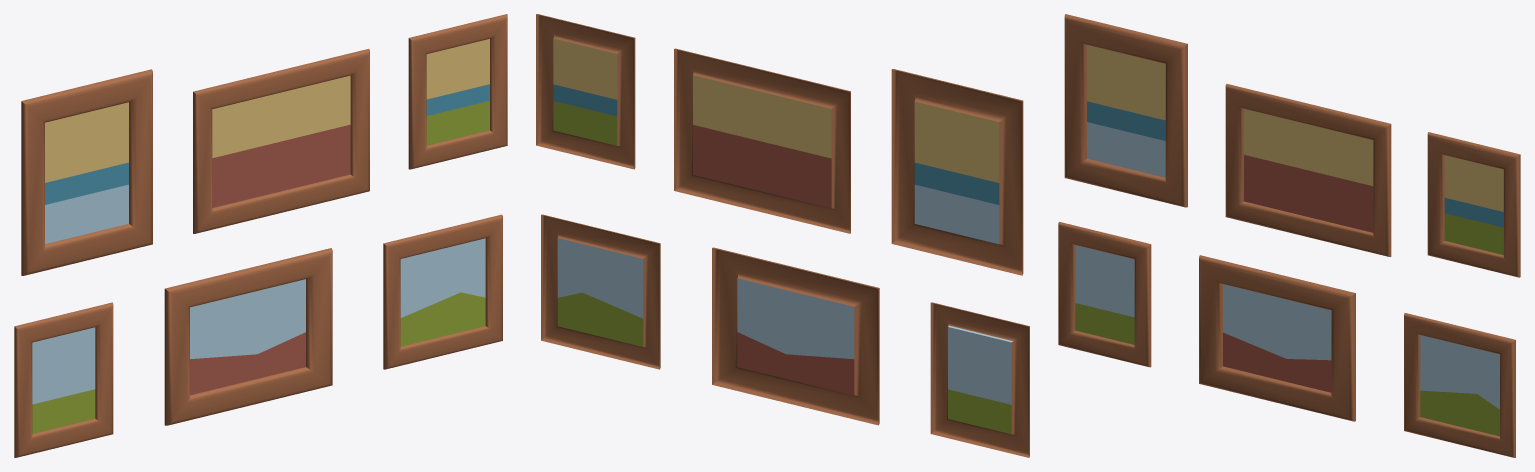
File: 03_Draw 2.fbx
The picture shows the model from 3 angles, left to right: view 1: azimuth 30°, elevation 25°; view 2: azimuth 150°, elevation 25°; view 3: azimuth 330°, elevation 25°; orthographic projection. The views are drawn at different scales.
Parts seen in each view (by area): view 1: 03_Draw 02.1, 03_Draw 02.4, 03_Draw 02, 03_Draw 02.5, 03_Draw 02.2, 03_Draw 02.3; view 2: 03_Draw 02.1, 03_Draw 02, 03_Draw 02.4, 03_Draw 02.5, 03_Draw 02.3, 03_Draw 02.2; view 3: 03_Draw 02.1, 03_Draw 02, 03_Draw 02.4, 03_Draw 02.5, 03_Draw 02.2, 03_Draw 02.3.
Boxes of the visible parts, x1=… form: 03_Draw 02.1: x1=193, y1=49, x2=369, y2=233; 03_Draw 02.4: x1=164, y1=248, x2=332, y2=425; 03_Draw 02: x1=21, y1=69, x2=152, y2=275; 03_Draw 02.5: x1=383, y1=214, x2=502, y2=369; 03_Draw 02.2: x1=408, y1=14, x2=507, y2=169; 03_Draw 02.3: x1=14, y1=302, x2=113, y2=457; 03_Draw 02.1: x1=674, y1=48, x2=850, y2=233; 03_Draw 02: x1=891, y1=69, x2=1023, y2=275; 03_Draw 02.4: x1=712, y1=247, x2=879, y2=425; 03_Draw 02.5: x1=541, y1=214, x2=660, y2=369; 03_Draw 02.3: x1=930, y1=302, x2=1029, y2=457; 03_Draw 02.2: x1=536, y1=14, x2=635, y2=169; 03_Draw 02.1: x1=1225, y1=83, x2=1391, y2=256; 03_Draw 02: x1=1064, y1=14, x2=1187, y2=207; 03_Draw 02.4: x1=1199, y1=255, x2=1355, y2=421; 03_Draw 02.5: x1=1404, y1=313, x2=1515, y2=457; 03_Draw 02.2: x1=1427, y1=132, x2=1520, y2=277; 03_Draw 02.3: x1=1058, y1=221, x2=1151, y2=367.
Size of the model in its own units: 39.08 by 27.22 by 0.4441.
